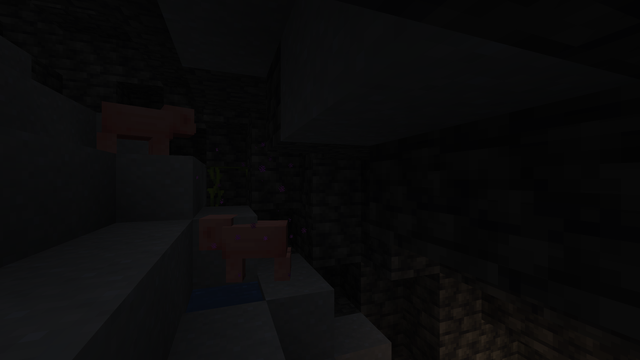cochons: (229, 217, 288, 288), (95, 99, 170, 149)
